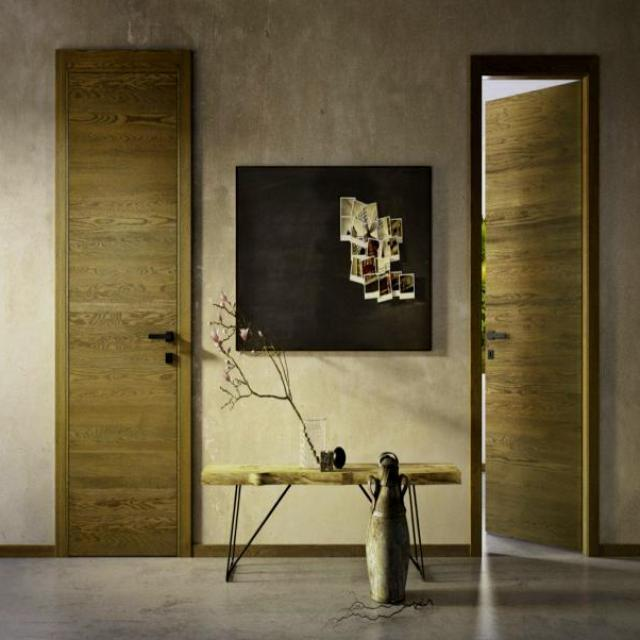door: (54, 47, 193, 557), (482, 82, 590, 562)
